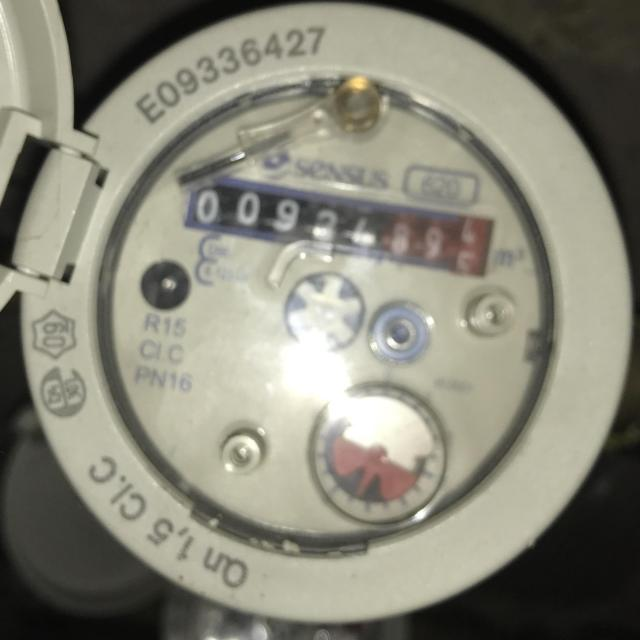gaz_meter: (95, 76, 568, 555)
indication: (180, 165, 501, 283)
